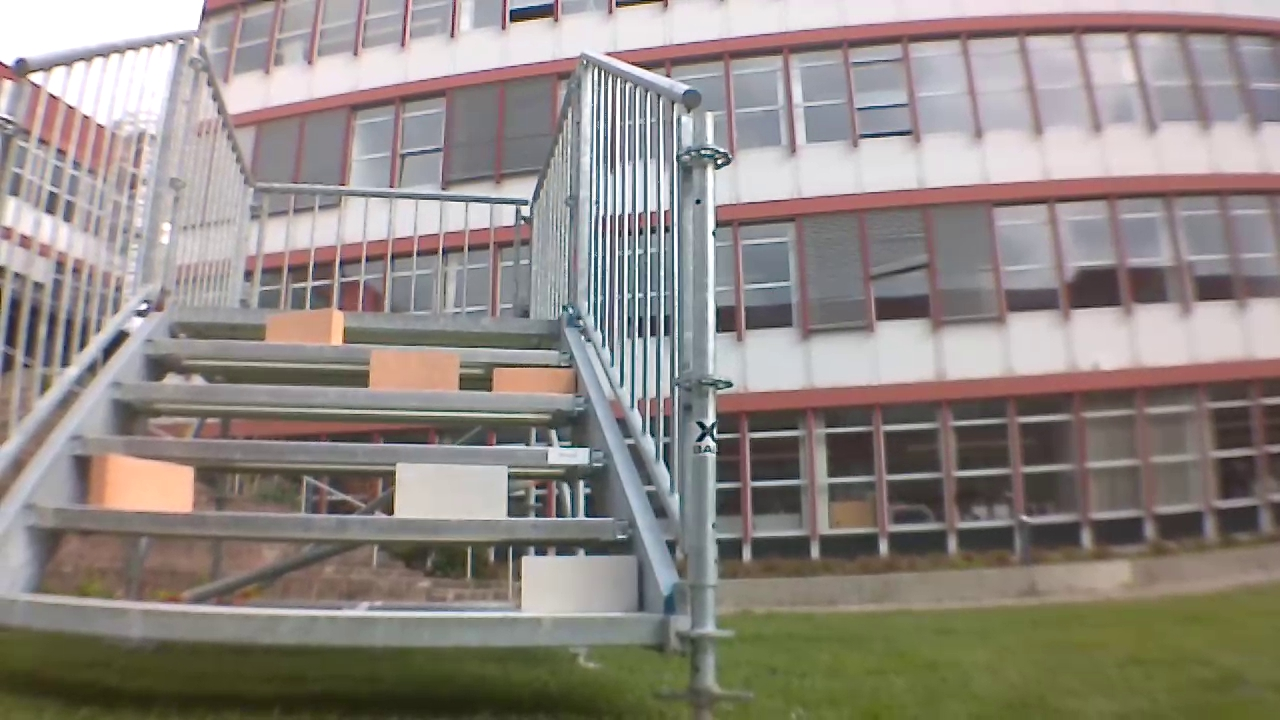brick: (523, 555, 636, 611), (88, 455, 192, 514), (394, 463, 506, 517), (371, 349, 458, 389), (266, 309, 343, 345), (492, 368, 572, 394)
edge: (3, 594, 664, 644), (27, 503, 632, 538), (70, 435, 609, 469), (112, 380, 587, 411), (143, 338, 571, 366), (174, 305, 561, 334)
stairs: (5, 32, 751, 718)
steps: (1, 296, 668, 649)
